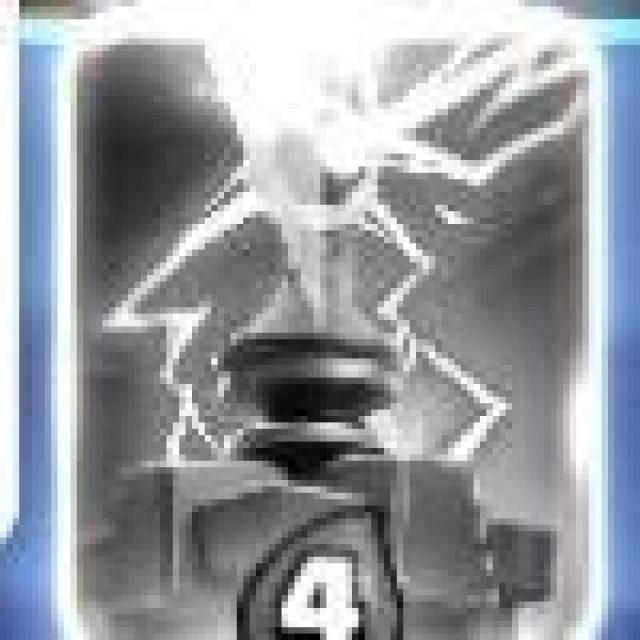Evolved_Tesla: (54, 8, 603, 640)
